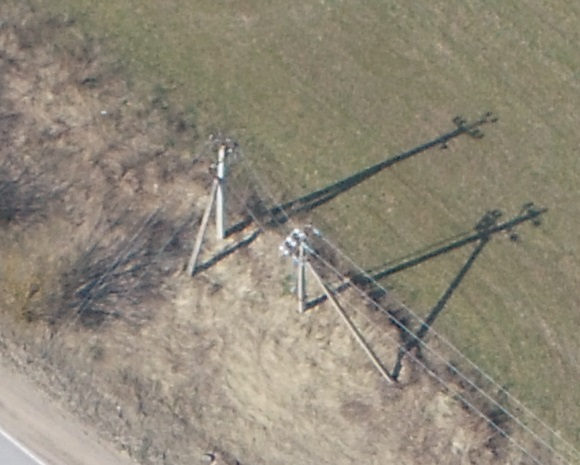opora: (278, 221, 413, 383), (185, 131, 281, 276)
